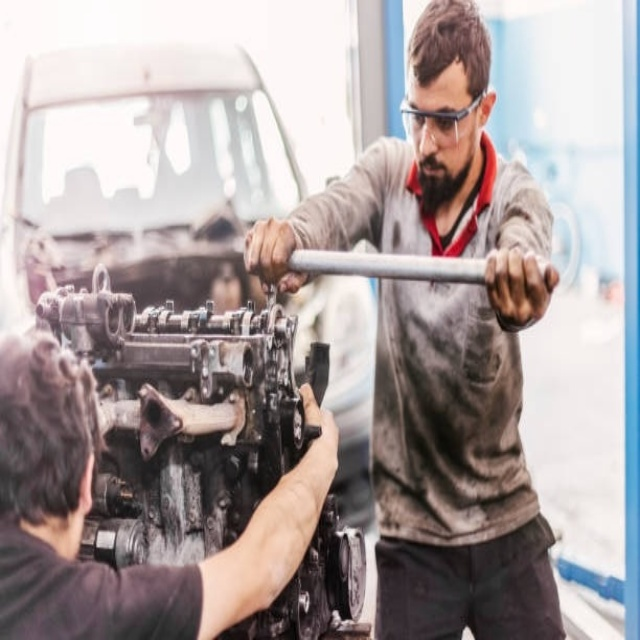Gafas: (401, 89, 485, 147)
Sin_guantes: (287, 386, 341, 510), (485, 243, 557, 326), (243, 215, 307, 294)
Sin_mascara: (415, 152, 453, 195)
